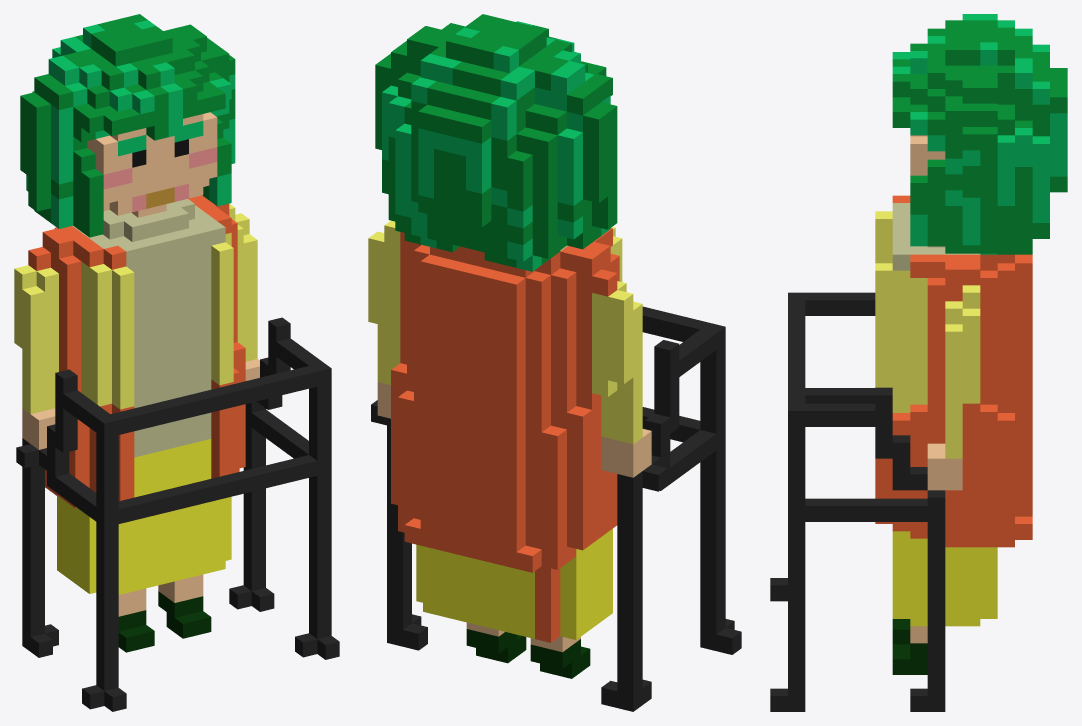
Rendered from Granny-1.obj.
3 views of the same model, side by side, from view 1: azimuth 30°, elevation 25°; view 2: azimuth 150°, elevation 25°; view 3: azimuth 270°, elevation 25° (orthographic). The views are drawn at different scales.
Bounding box in the file's own units: 1.8 × 3.9 × 1.7.
1 material, 1 textured.
